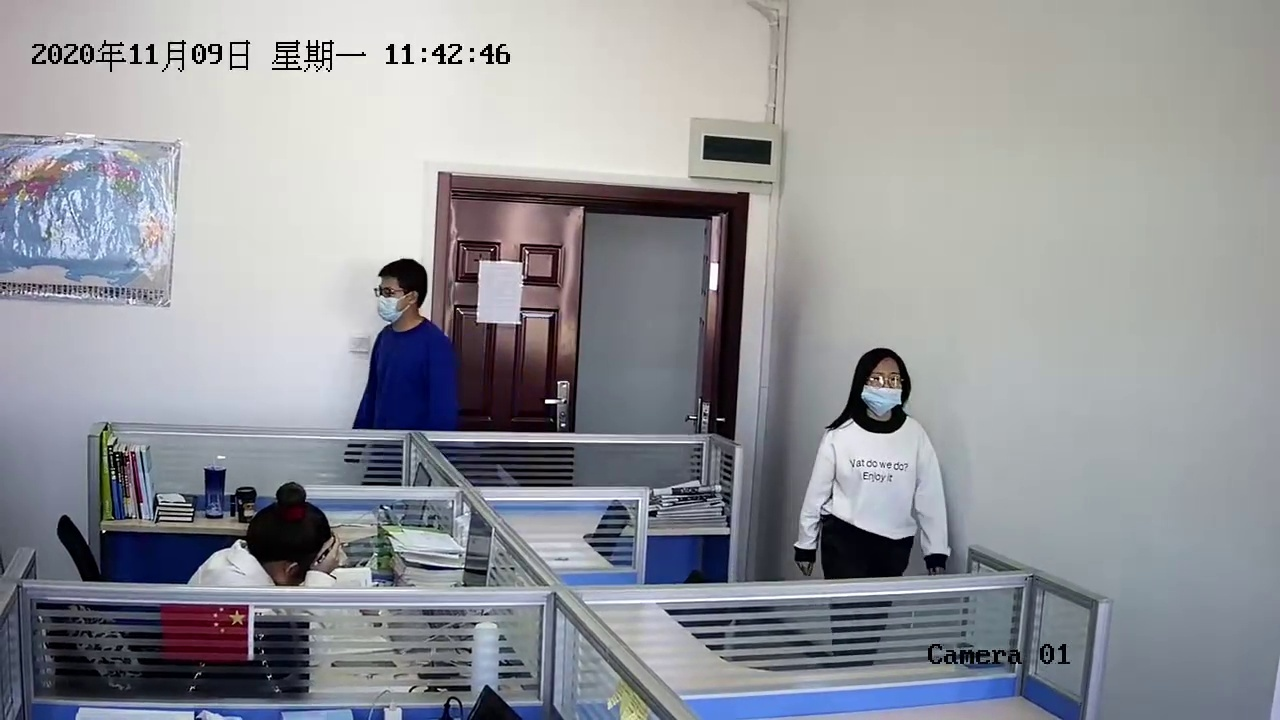mask: (852, 352, 907, 420), (369, 272, 422, 326)
